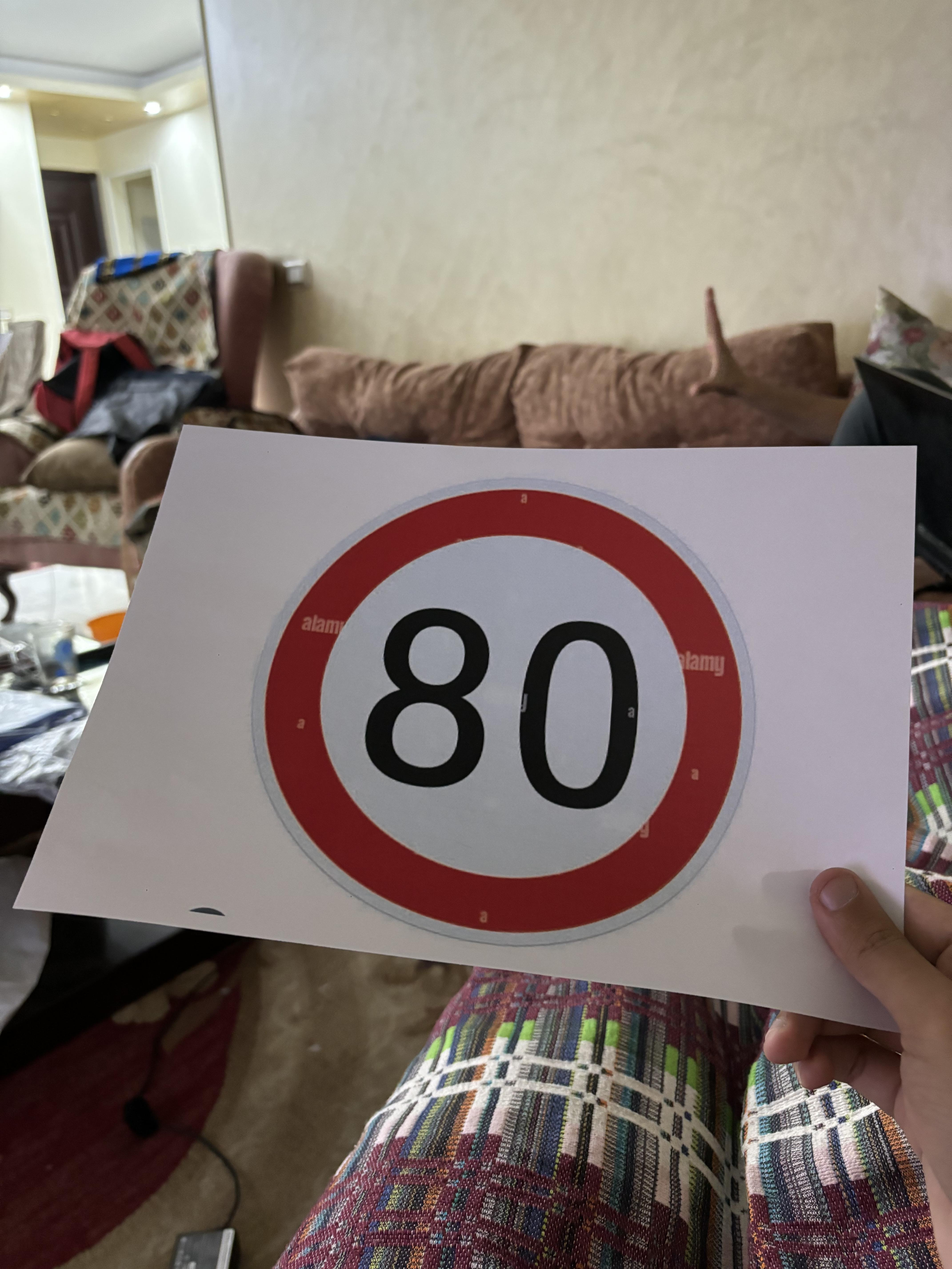80-Speed: (234, 471, 776, 952)
